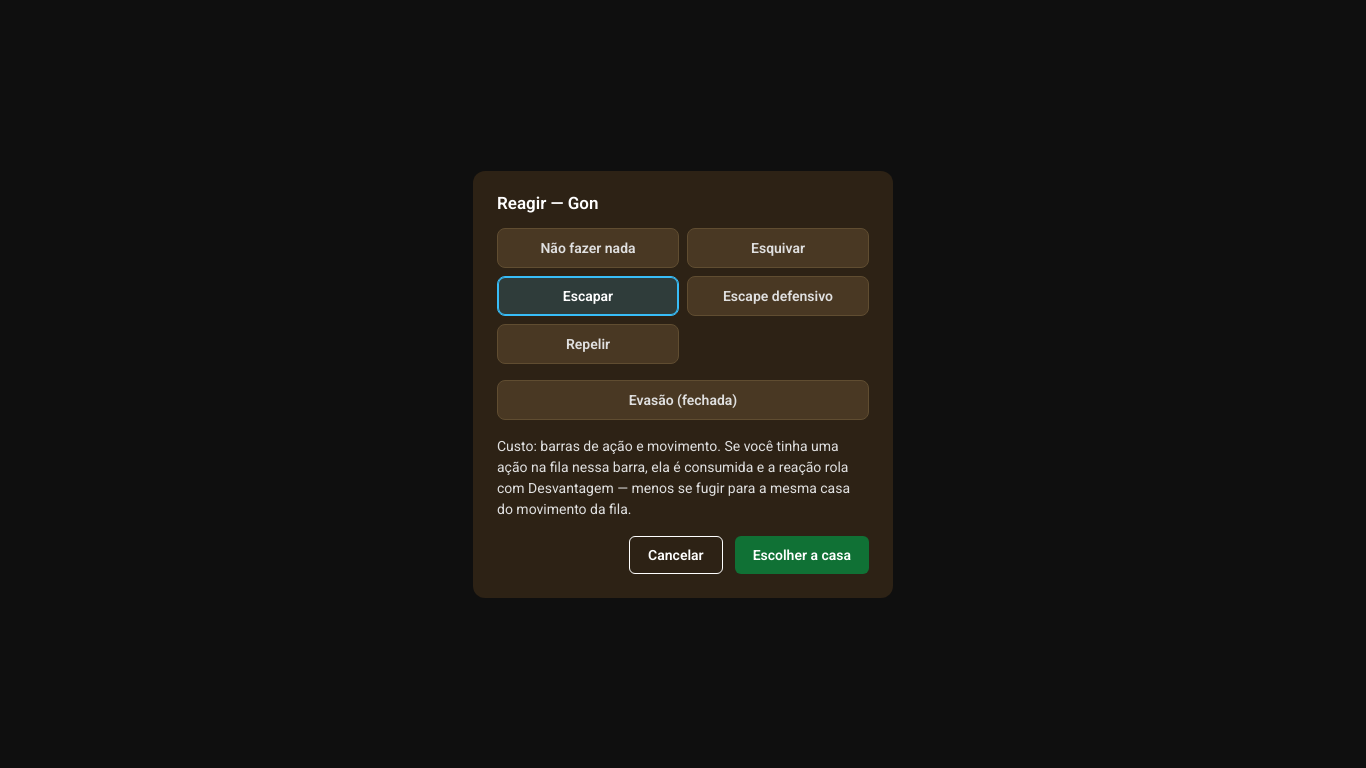
ReactionConfigDialog › o custo da fuga fechada cita só a barra de movimento
The image size is (1366, 768).
Step 1. Click the button "Evasão (fechada)" → (683, 400), box [497,380,869,420]
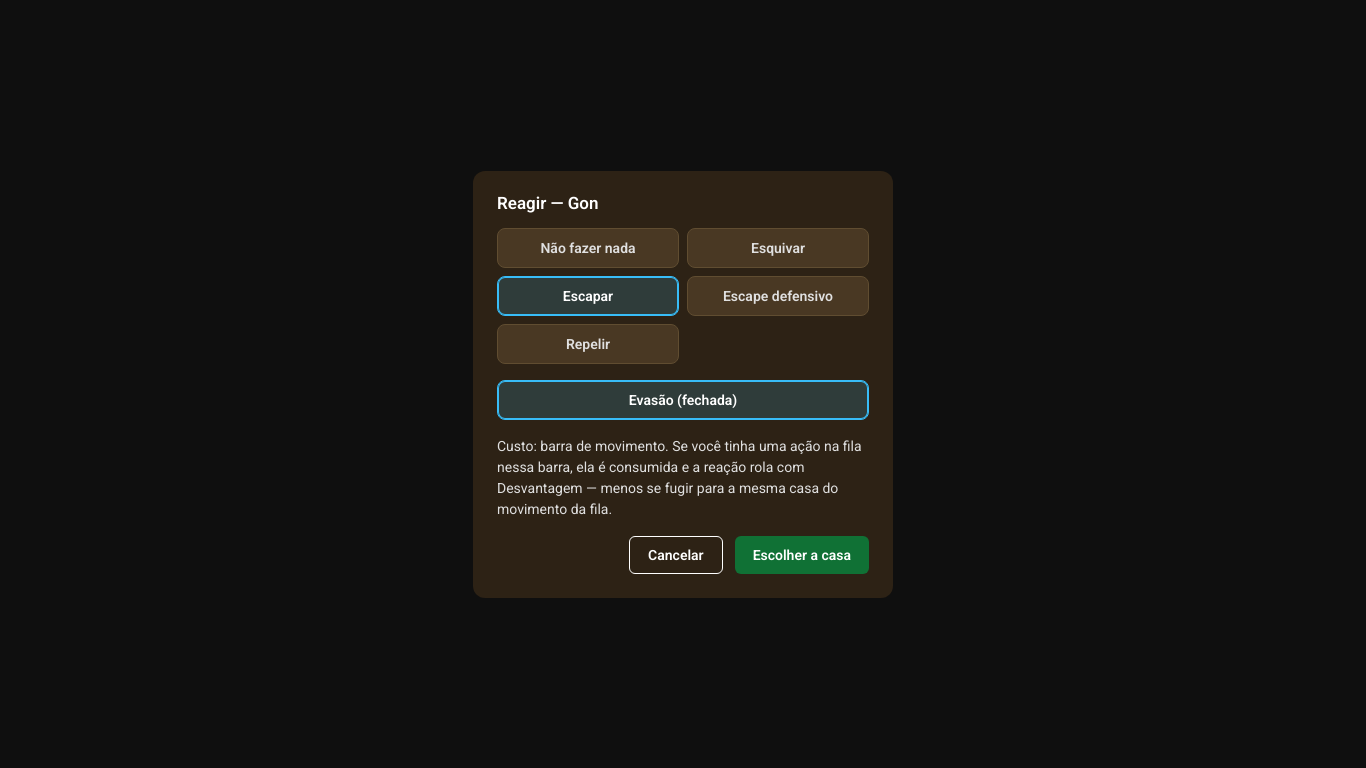
Expected: the text "Custo:" does not show "ação +", [497,438,862,516]
Expected: the text "Custo:" shows "Custo: barra de movimento. Se você tinha uma ação na fila nessa barra, ela é consumida e a reação rola com Desvantagem — menos se fugir para a mesma casa do mov", [497,438,862,516]
